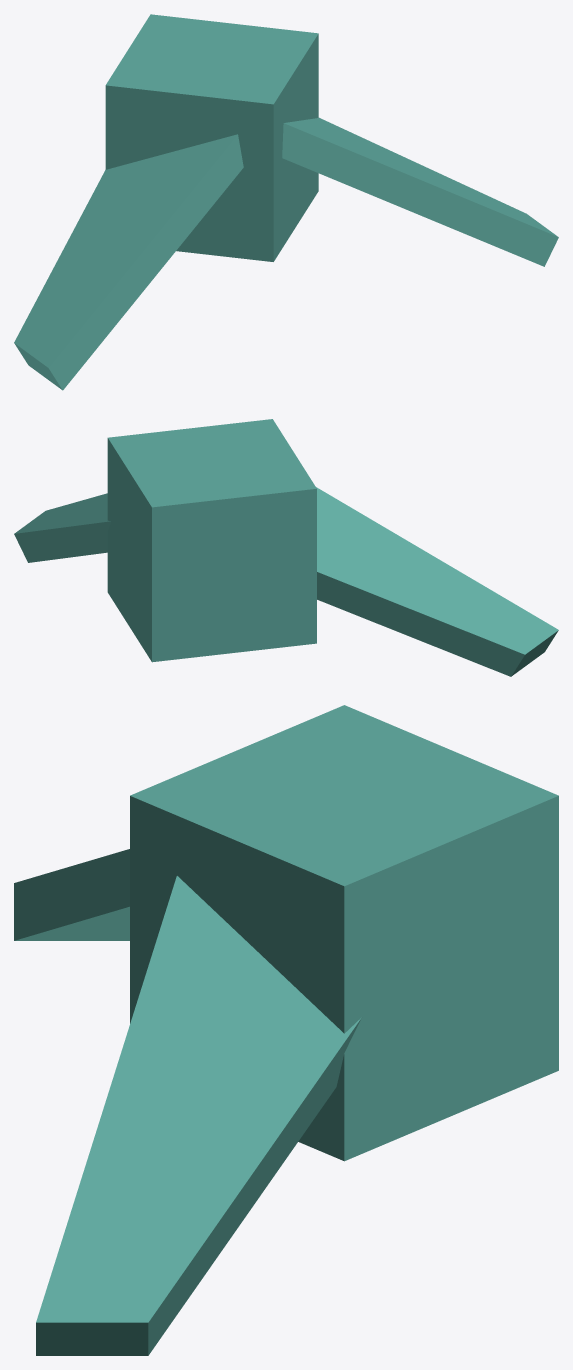
Rendered from tekki.fbx.
3 renders of one model, top to bottom at view 1: azimuth 30°, elevation 25°; view 2: azimuth 150°, elevation 25°; view 3: azimuth 270°, elevation 25°, orthographic. The views are drawn at different scales.
Parts seen in each view (by area): view 1: pCube3; view 2: pCube3; view 3: pCube3.
Boxes of the visible parts, x1,y1,x2,y2 form: pCube3: (14,14,558,390); pCube3: (14,419,558,676); pCube3: (14,705,558,1355).
Size of the model in its own units: 3.43 by 1.28 by 1.8.
